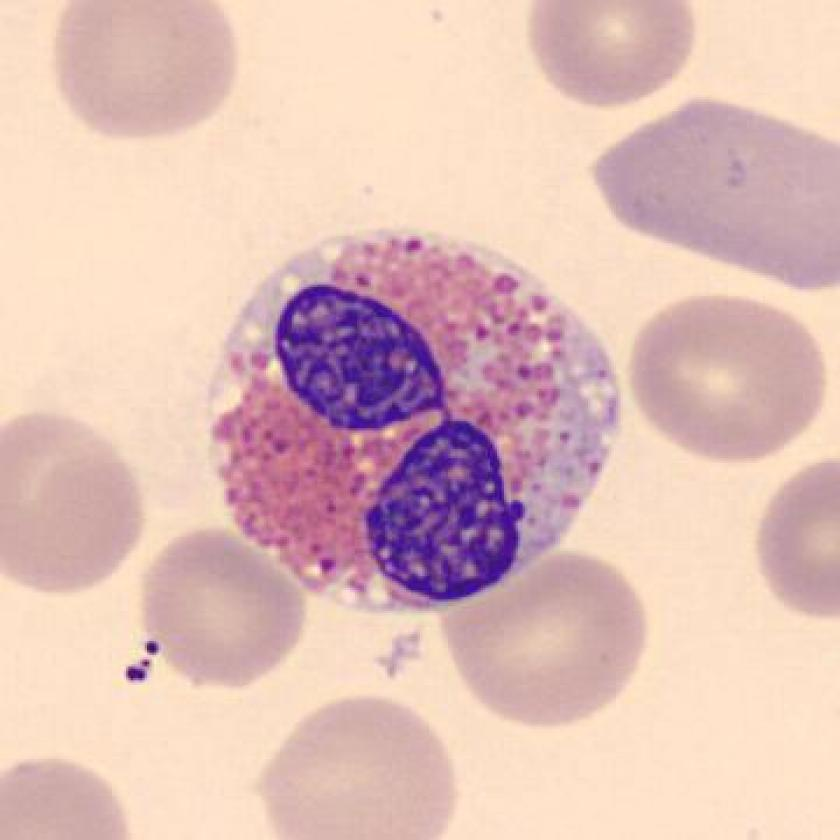eosinophil: (190, 214, 645, 626)
